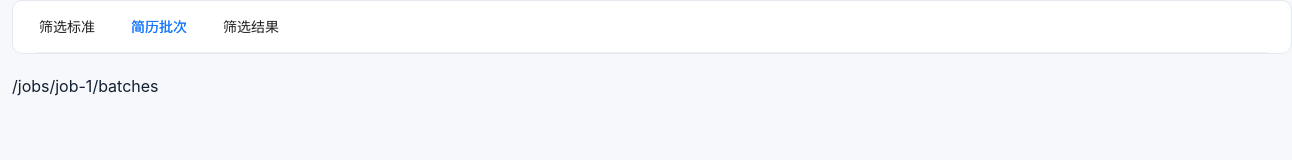
Test case: ScreeningModuleNav › 展示固定二级导航并切换到同一职位的目标页面
Click the tab "筛选结果" at (251, 27), box [223, 16, 279, 38]
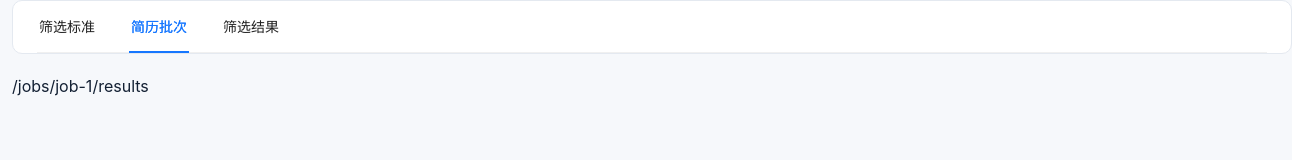
Expected: the text with test id "location" reads "/jobs/job-1/results", [12, 76, 149, 96]
